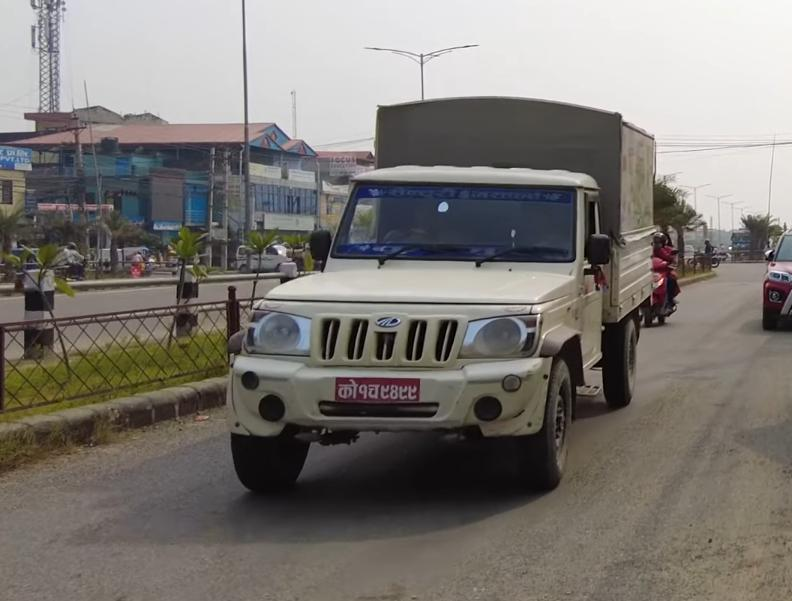car: (760, 225, 792, 334)
transport_vehicle: (220, 87, 666, 508)
